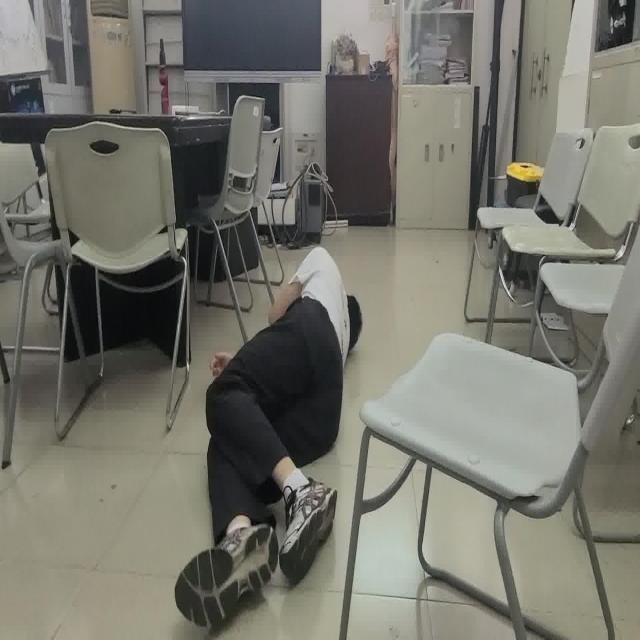fall: (168, 241, 368, 637)
